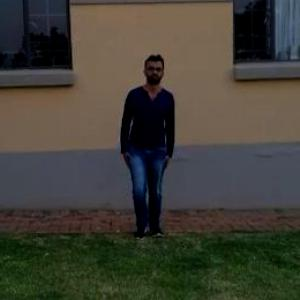follow: (119, 52, 176, 238)
